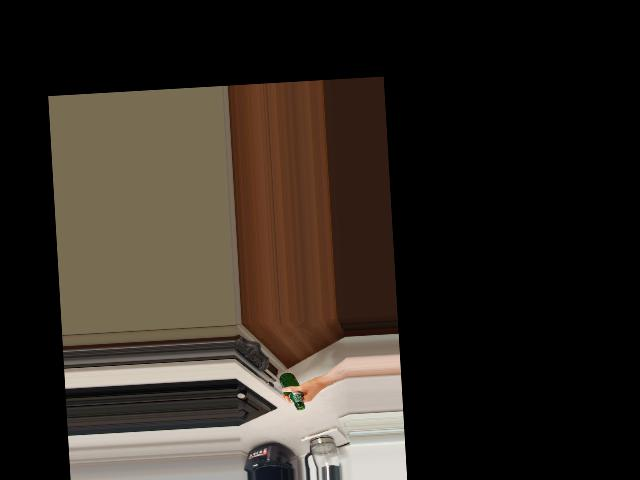beer: (279, 371, 305, 410)
